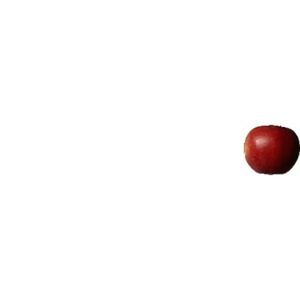maçã braeburn: (243, 122, 298, 177)
